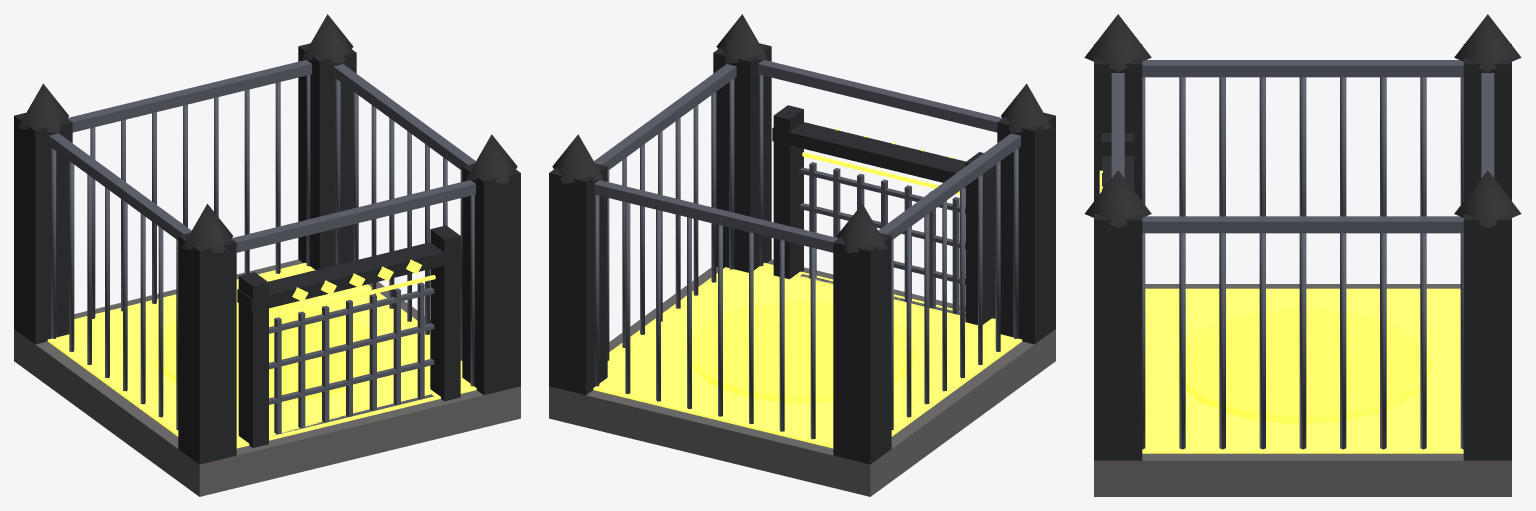
File: MonsterHub_SOLAR_Pit.glb
The picture shows the model from 3 angles, left to right: view 1: azimuth 30°, elevation 25°; view 2: azimuth 150°, elevation 25°; view 3: azimuth 270°, elevation 25°; orthographic projection. The views are drawn at different scales.
Visible parts, largest first — view 1: MonsterHub_SOLAR_Pit, MonsterHub_SOLAR_Pit_Gate; view 2: MonsterHub_SOLAR_Pit, MonsterHub_SOLAR_Pit_Gate; view 3: MonsterHub_SOLAR_Pit.
Part boxes in pixels (box(x1,y1,x2,y2)): MonsterHub_SOLAR_Pit: box(14, 14, 520, 496); MonsterHub_SOLAR_Pit_Gate: box(269, 275, 435, 435); MonsterHub_SOLAR_Pit: box(549, 14, 1055, 496); MonsterHub_SOLAR_Pit_Gate: box(799, 152, 965, 316); MonsterHub_SOLAR_Pit: box(1084, 14, 1521, 496).
Bounding box in the file's own units: 5.44 × 4.35 × 5.44.
